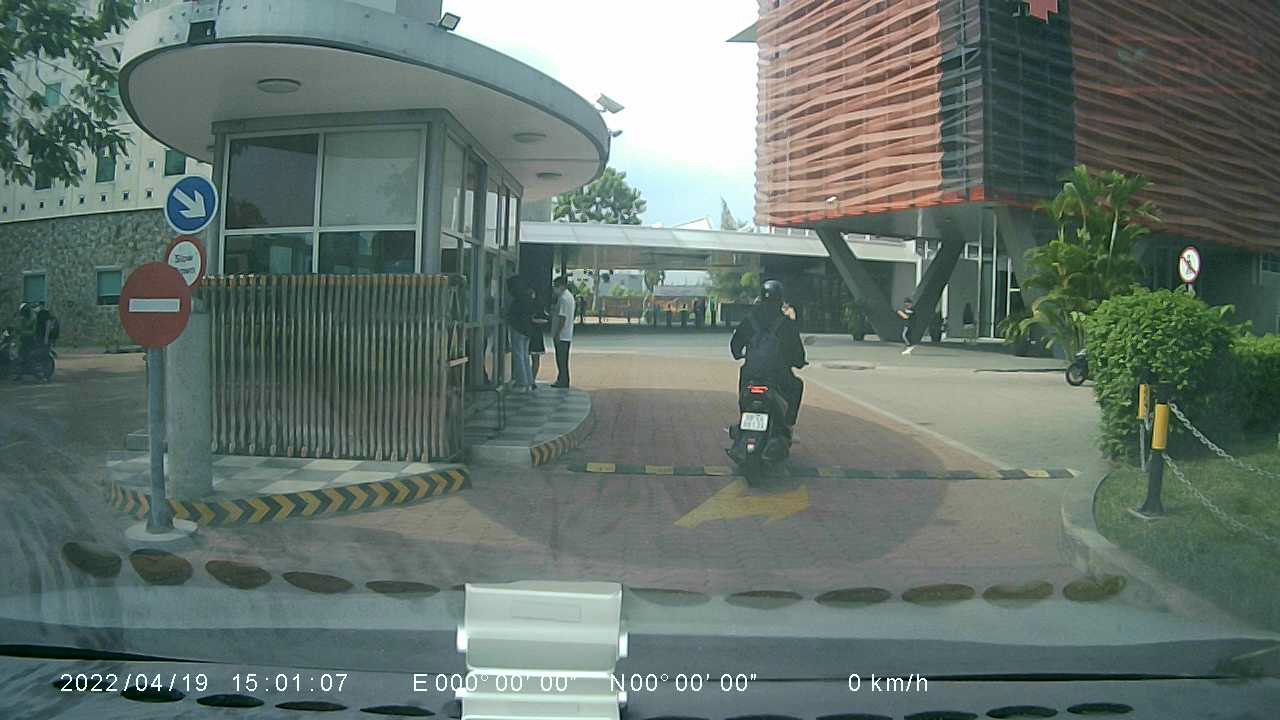Cam di nguoc chieu: (118, 259, 190, 350)
Huong di phai re phai: (163, 171, 216, 235)
